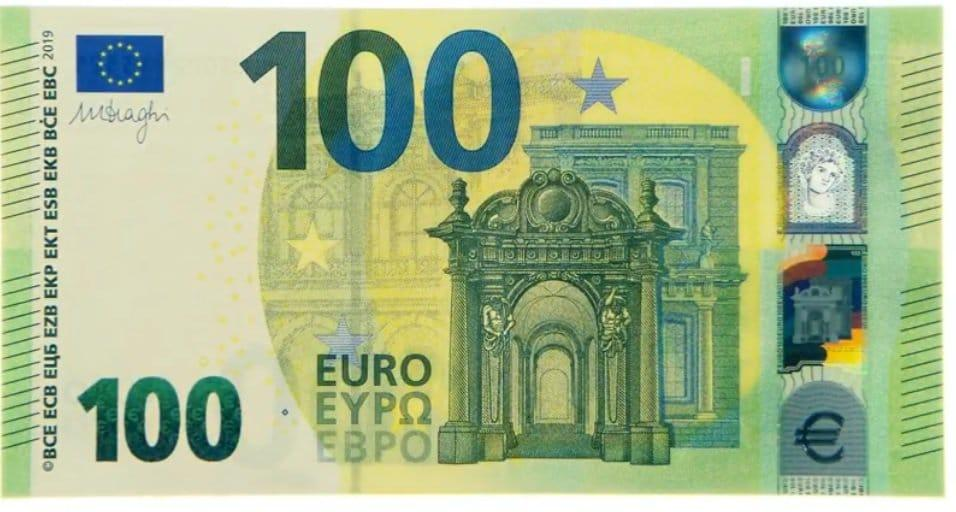euro_banknote: (2, 7, 947, 499)
